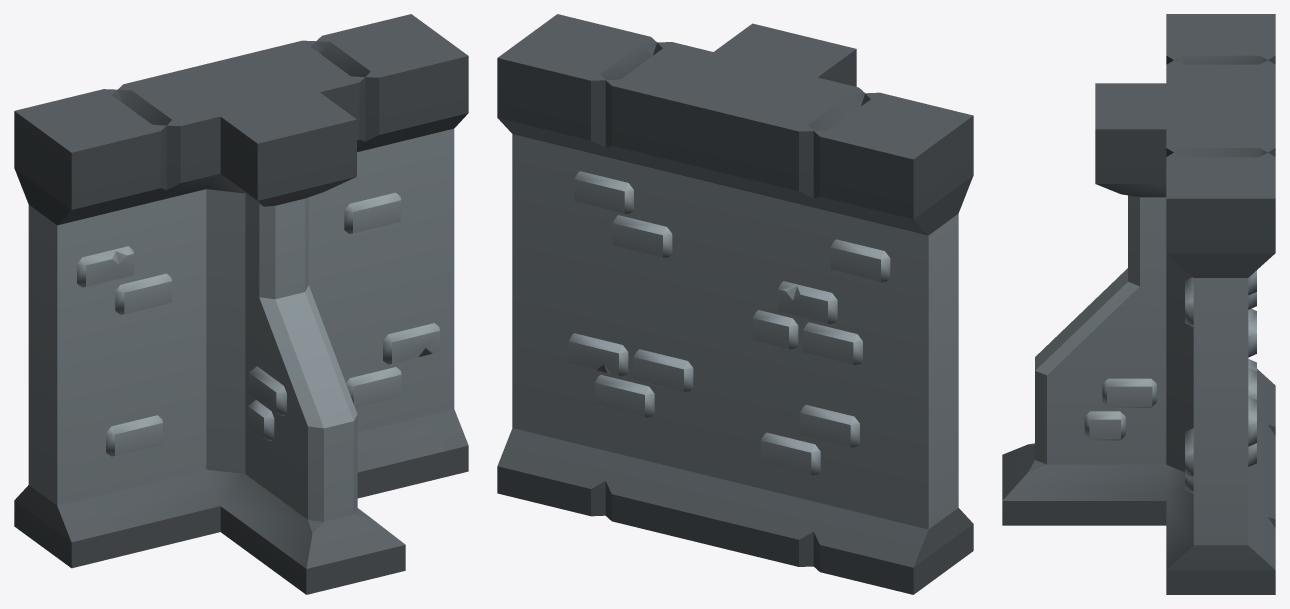
File: wall_Tsplit_sloped.glb
3 views of the same model, side by side, from view 1: azimuth 30°, elevation 25°; view 2: azimuth 150°, elevation 25°; view 3: azimuth 270°, elevation 25° (orthographic). The views are drawn at different scales.
Parts seen in each view (by area): view 1: wall_Tsplit_sloped; view 2: wall_Tsplit_sloped; view 3: wall_Tsplit_sloped.
Boxes of the visible parts, x1=… form: wall_Tsplit_sloped: x1=14, y1=14, x2=468, y2=594; wall_Tsplit_sloped: x1=497, y1=14, x2=973, y2=594; wall_Tsplit_sloped: x1=1002, y1=14, x2=1275, y2=594.
Bounding box in the file's own units: 4 × 4 × 2.5.
Materials: 1 (1 with a texture image).
